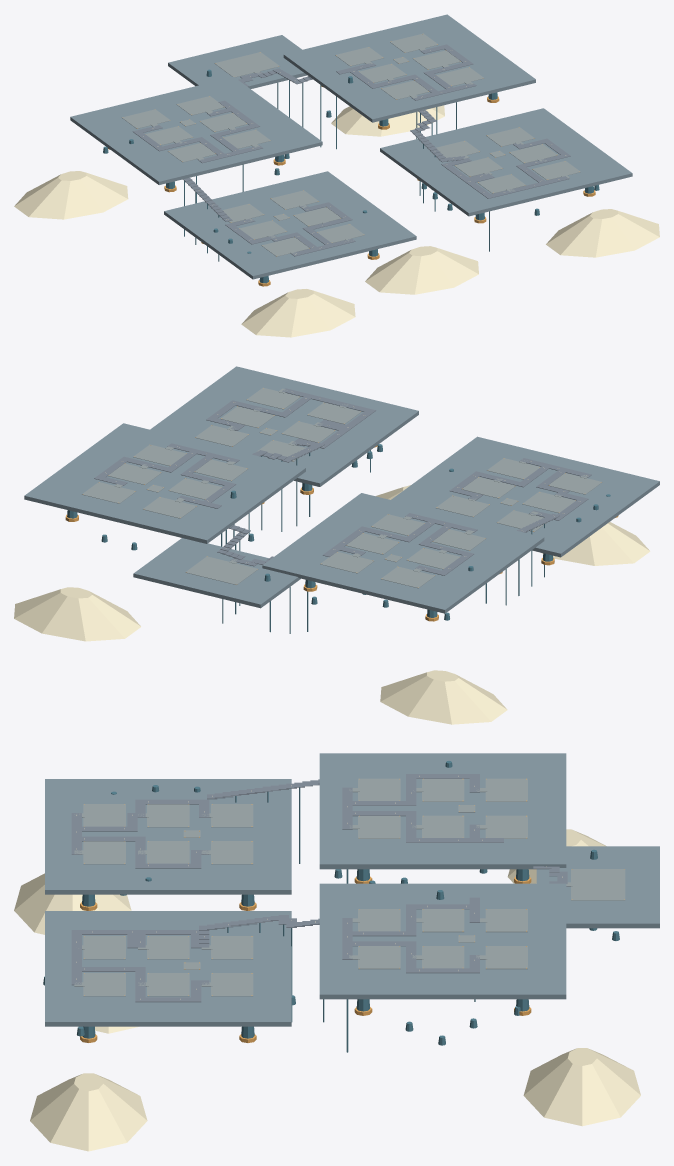
Rendered from ground.glb.
3 renders of one model, top to bottom at view 1: azimuth 30°, elevation 25°; view 2: azimuth 150°, elevation 25°; view 3: azimuth 270°, elevation 25°, orthographic. The views are drawn at different scales.
Parts seen in each view (by area): view 1: planet_gasgiant__Terrain, planet_gasgiant__Roads, planet_gasgiant__Decoration; view 2: planet_gasgiant__Terrain, planet_gasgiant__Roads, planet_gasgiant__Decoration; view 3: planet_gasgiant__Terrain, planet_gasgiant__Roads, planet_gasgiant__Decoration.
Boxes of the visible parts, x1=… form: planet_gasgiant__Terrain: x1=70, y1=14, x2=632, y2=283; planet_gasgiant__Roads: x1=121, y1=33, x2=580, y2=261; planet_gasgiant__Decoration: x1=14, y1=69, x2=659, y2=337; planet_gasgiant__Terrain: x1=24, y1=366, x2=659, y2=617; planet_gasgiant__Roads: x1=82, y1=387, x2=602, y2=633; planet_gasgiant__Decoration: x1=14, y1=444, x2=650, y2=724; planet_gasgiant__Terrain: x1=45, y1=753, x2=659, y2=1038; planet_gasgiant__Roads: x1=71, y1=774, x2=625, y2=1052; planet_gasgiant__Decoration: x1=14, y1=761, x2=640, y2=1151.
Bounding box in the file's own units: 188 × 38 × 162.
